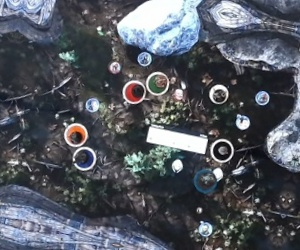black: (207, 138, 235, 165)
blue: (66, 145, 94, 173)
brown_turquoise: (192, 170, 220, 197)
green: (143, 66, 170, 93)
orange: (55, 121, 83, 148)
red: (119, 78, 146, 105)
white: (207, 80, 234, 107)
